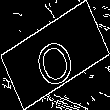O_NW: (29, 22, 81, 88)
